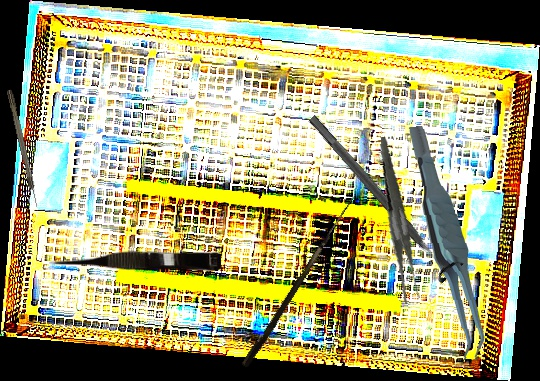Dressing Forceps: (359, 136, 441, 306)
Fixation Ring: (299, 106, 465, 286)
Hook Surgical: (241, 191, 355, 370), (6, 88, 40, 209)
Micro Scissor: (49, 249, 221, 271)
Tissue Forceps: (407, 124, 486, 362)
